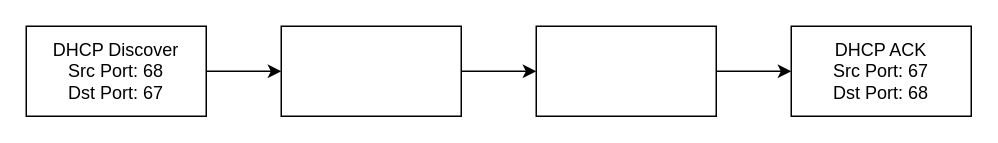
Some shapes in this 998 by 143 pixel diagram are drawn without their labels. Each missing label, with the centre of its shape:
"DHCP Offer Src Port: 67 Dst Port: 68" belongs at point 370,70.
"DHCP Request Src Port: 68 Dst Port: 67" belongs at point 625,70.
